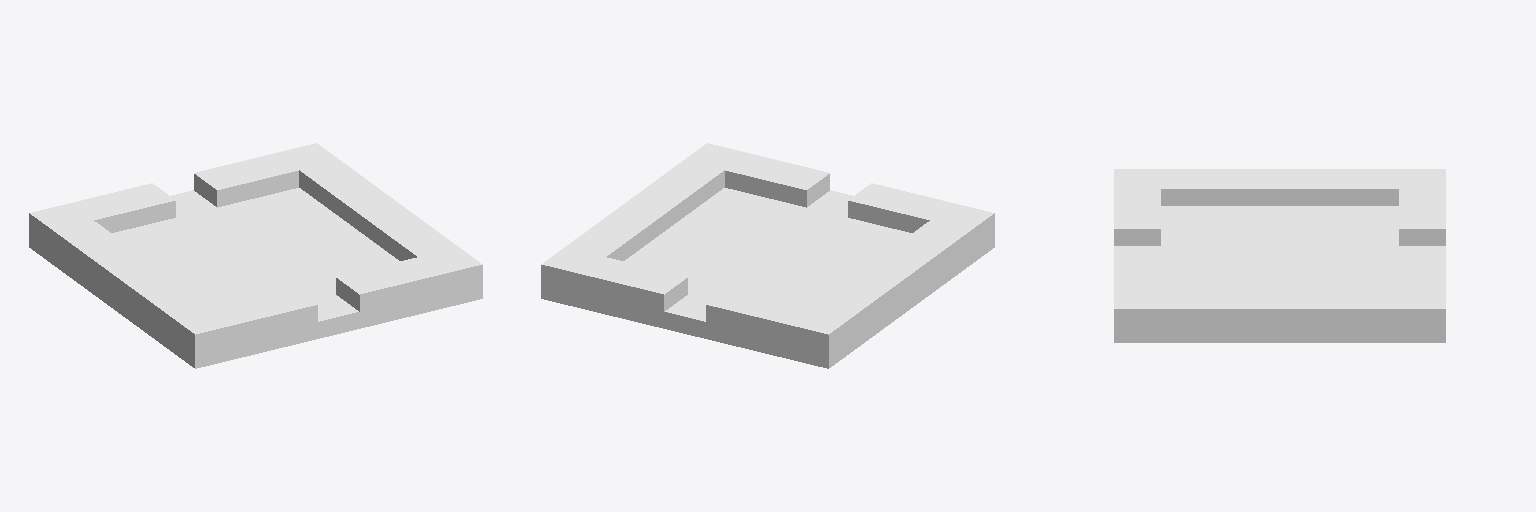
The model's file is StraightPlaza.obj.
3 renders of one model, left to right at view 1: azimuth 30°, elevation 25°; view 2: azimuth 150°, elevation 25°; view 3: azimuth 270°, elevation 25°, orthographic.
Visible parts, largest first — view 1: object 1; view 2: object 1; view 3: object 1.
Part boxes in pixels (left/top/right/bottom): object 1: left=29, top=143, right=482, bottom=368; object 1: left=541, top=143, right=994, bottom=368; object 1: left=1114, top=169, right=1445, bottom=342.
Size of the model in its own units: 7 by 0.8 by 7.